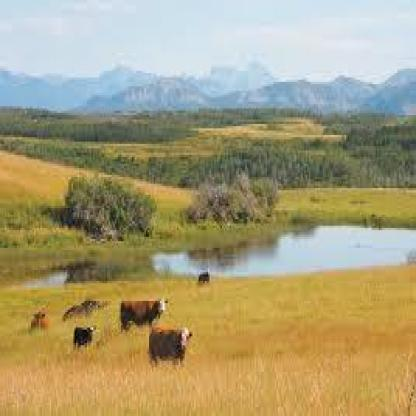cow: (148, 325, 193, 361), (117, 298, 167, 324), (66, 300, 100, 322), (30, 311, 51, 333), (74, 324, 95, 346), (197, 271, 214, 287)
